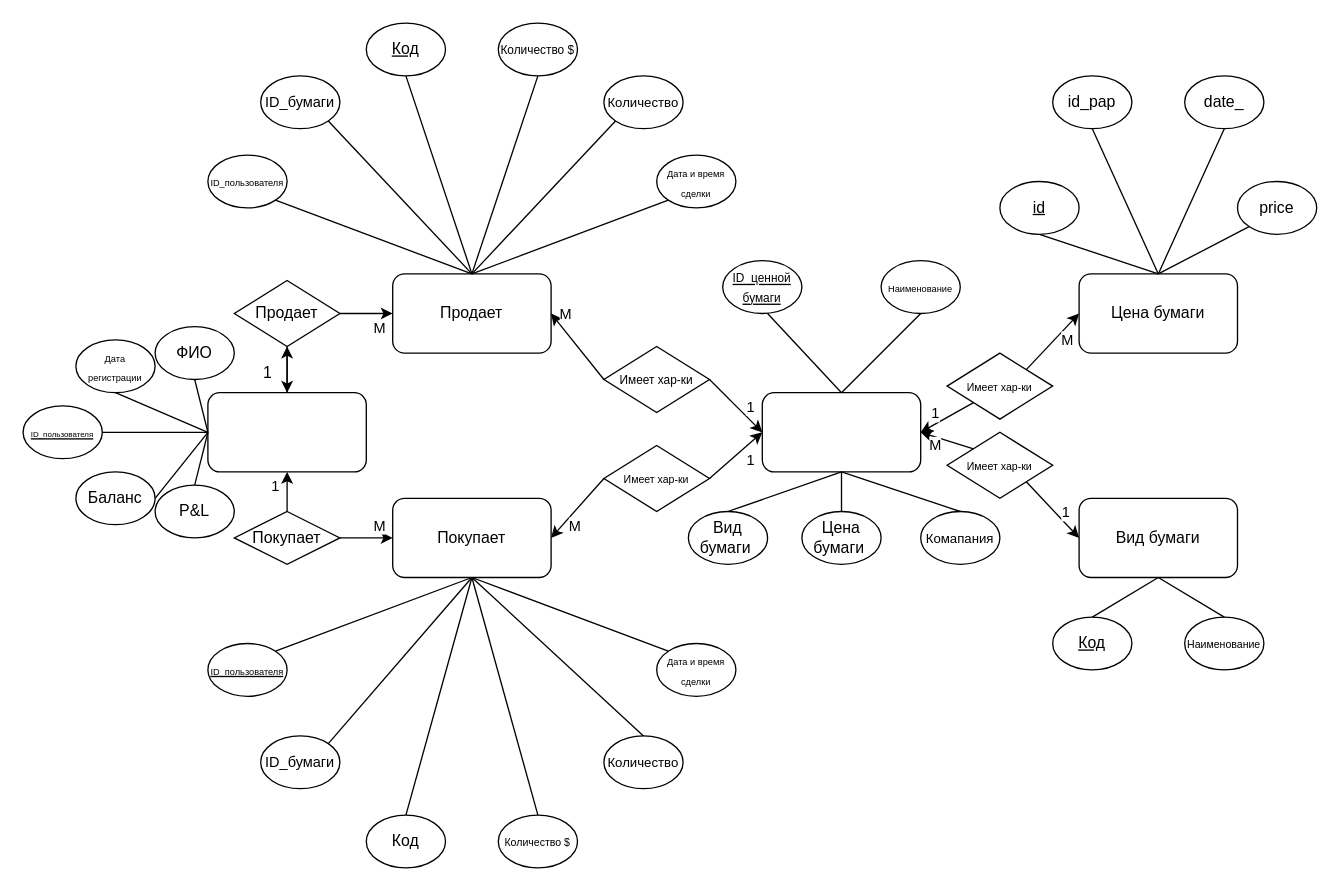
The diagram is 1340 pixels wide and 891 high, and some of its shapes have lost their labels. Here are the shapes that lost their labels. From the top down, the centre of each, then its label:
At pixel 286 431: "Участник".
At pixel 841 431: "Ценная бумага".
